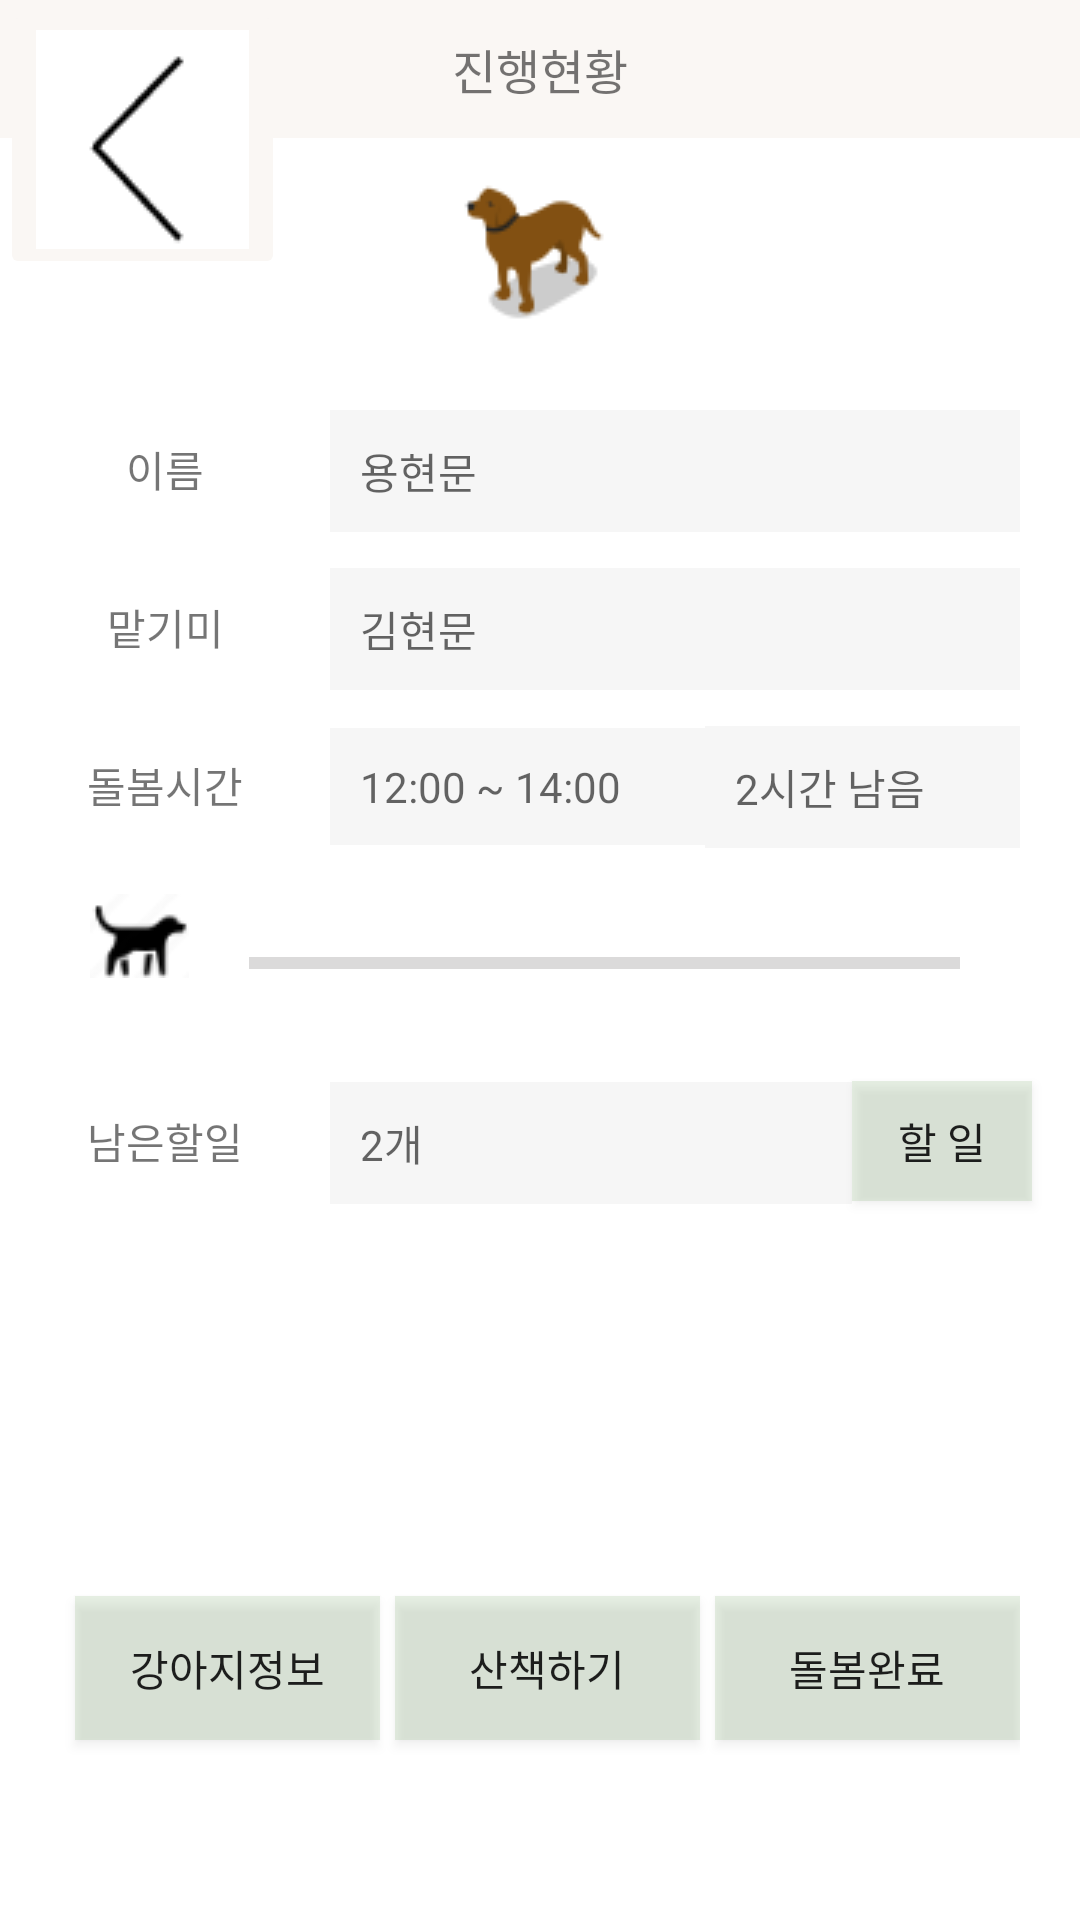

Icons on this 1080 x 1920 Android screen, each with its box as (x1, y1, x2, y2):
arrow: (90, 56, 184, 242)
dogicon: (465, 186, 603, 318)
dogrun: (95, 905, 187, 978)
